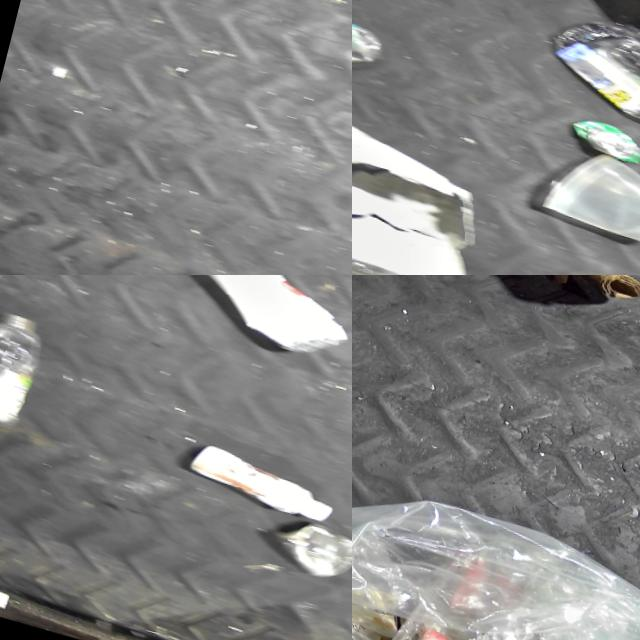can: (263, 508, 352, 588), (564, 110, 640, 163)
plastic_bottle: (538, 1, 640, 140), (0, 299, 51, 434), (352, 0, 388, 76)
